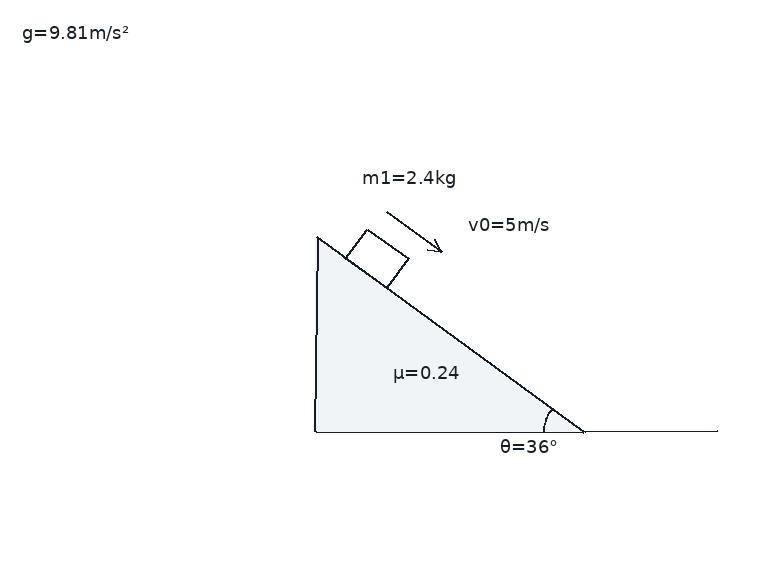block: (343, 226, 410, 290)
ramp: (313, 235, 586, 434)
